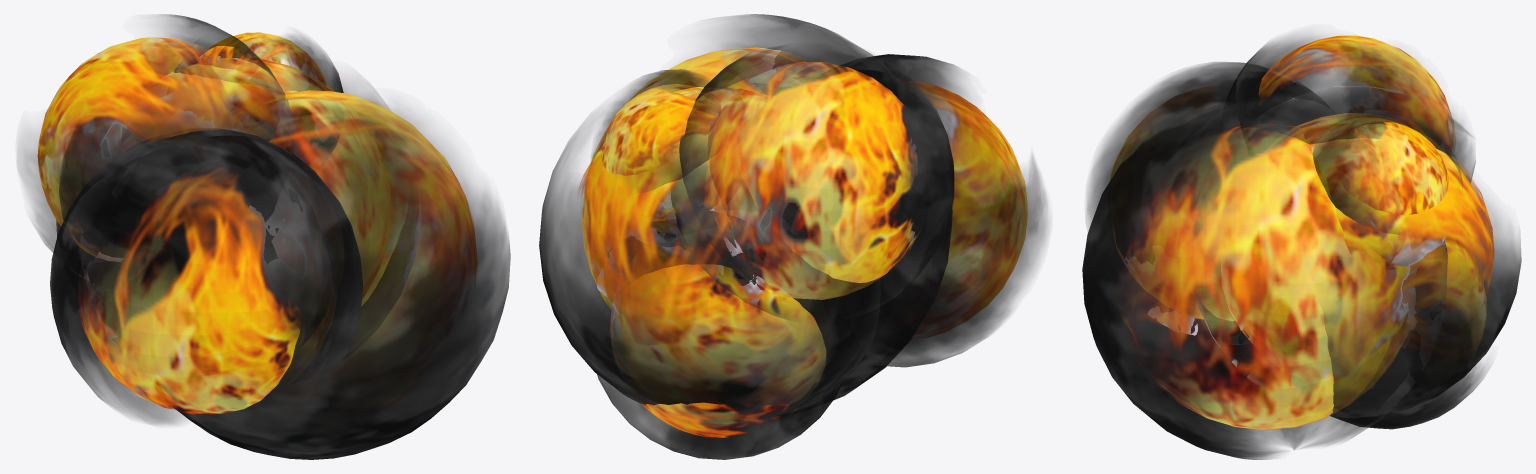
File: explosion.glb
3 renders of one model, left to right at view 1: azimuth 30°, elevation 25°; view 2: azimuth 150°, elevation 25°; view 3: azimuth 270°, elevation 25°, orthographic. The views are drawn at different scales.
Visible parts, largest first — view 1: Sphere; view 2: Sphere; view 3: Sphere.
Part boxes in pixels (bbox=[...]): Sphere: bbox=[17, 14, 510, 459]; Sphere: bbox=[539, 14, 1049, 459]; Sphere: bbox=[1082, 33, 1521, 459].
Size of the model in its own units: 1.32 by 1.18 by 1.27.
1 material, 1 textured.
